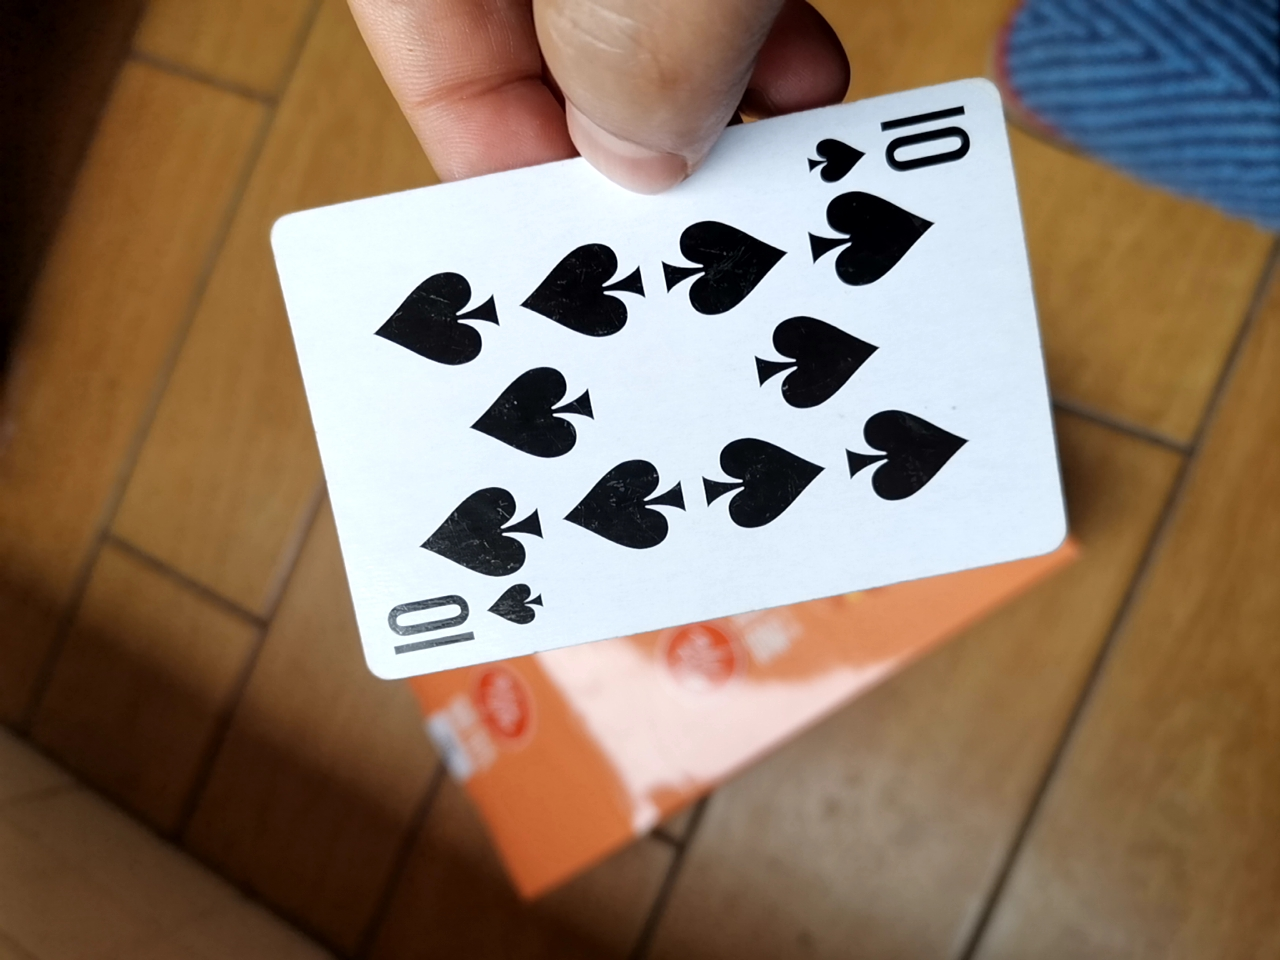ht 10: (256, 69, 1086, 691)
